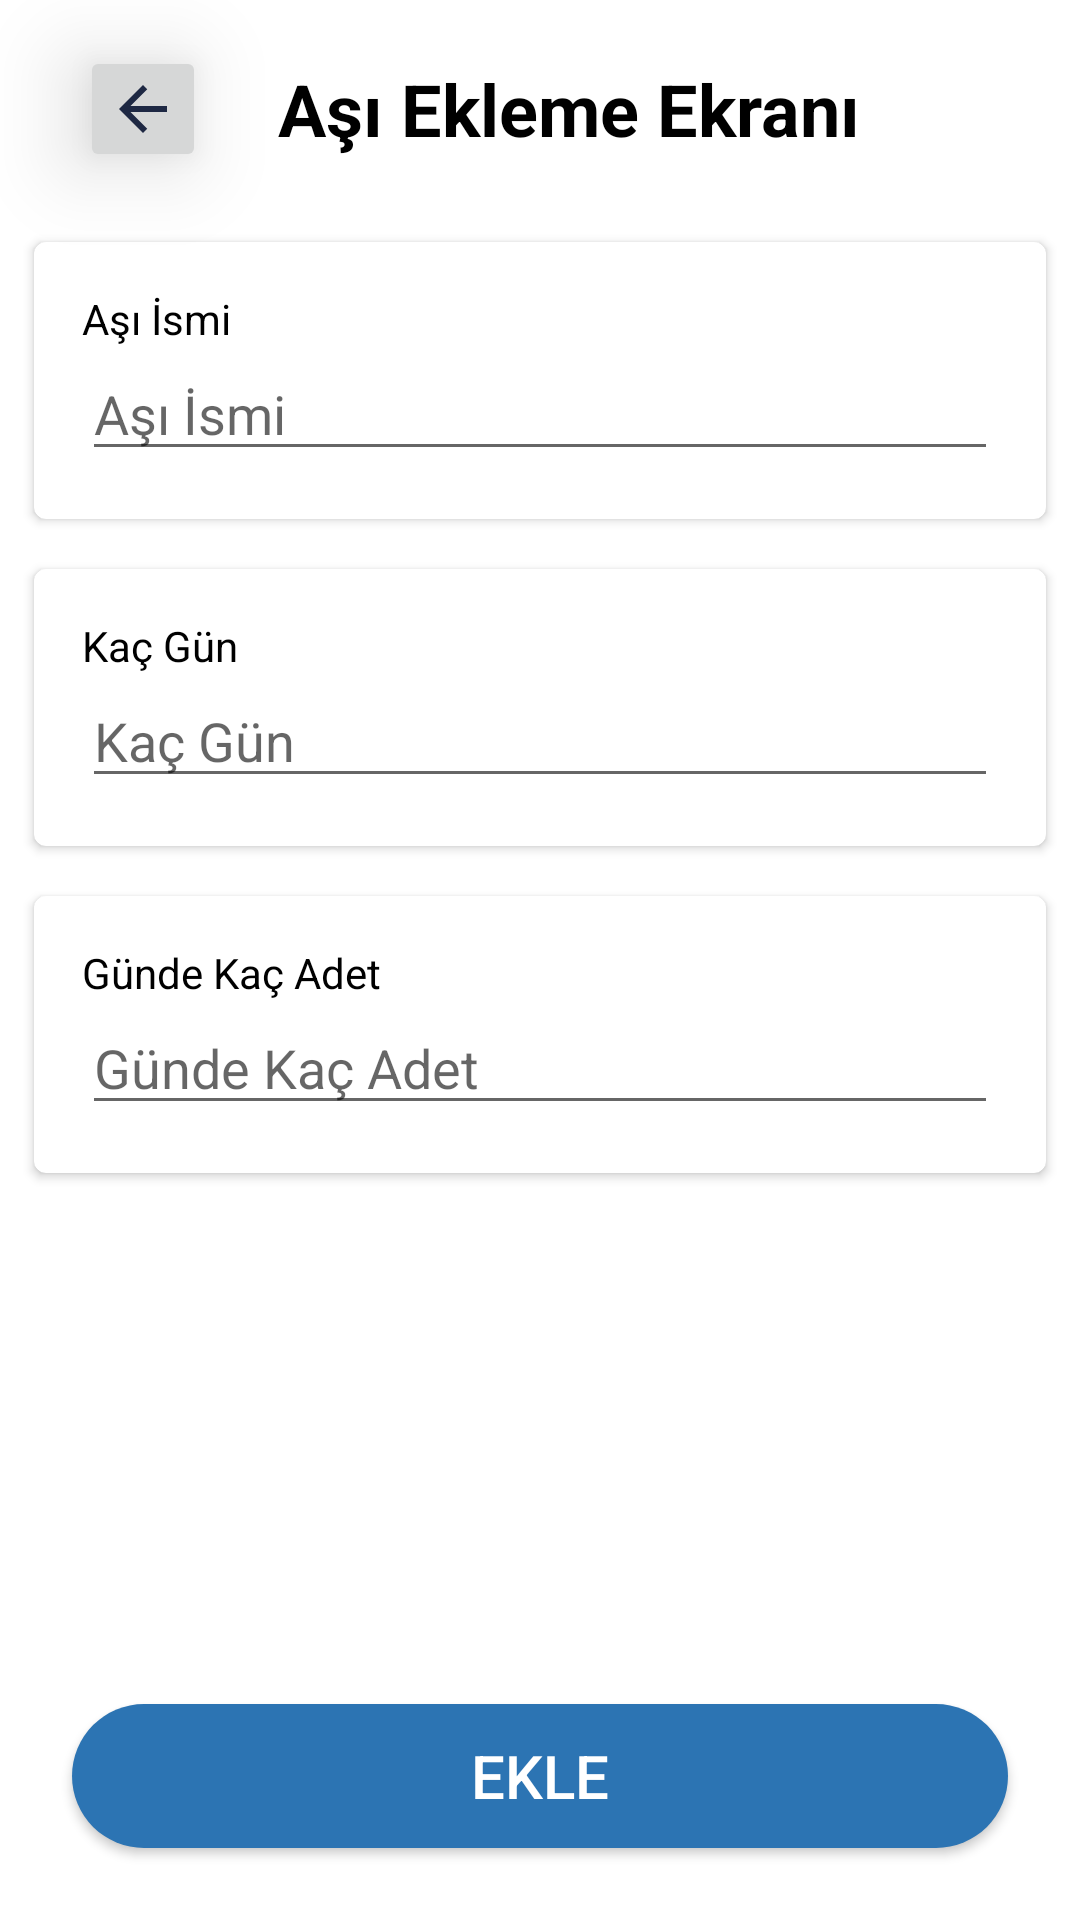

Icon click points for this 1080×1920 phone screenshot, format (x,y):
arrow back: (143,109)
